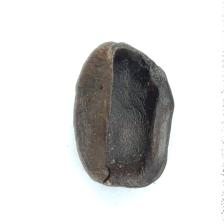NG: (105, 43, 169, 186)
